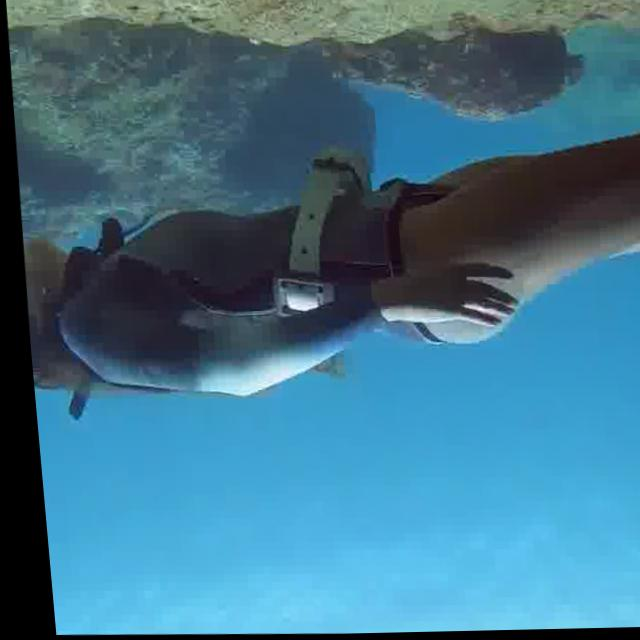human: (7, 90, 640, 438)
